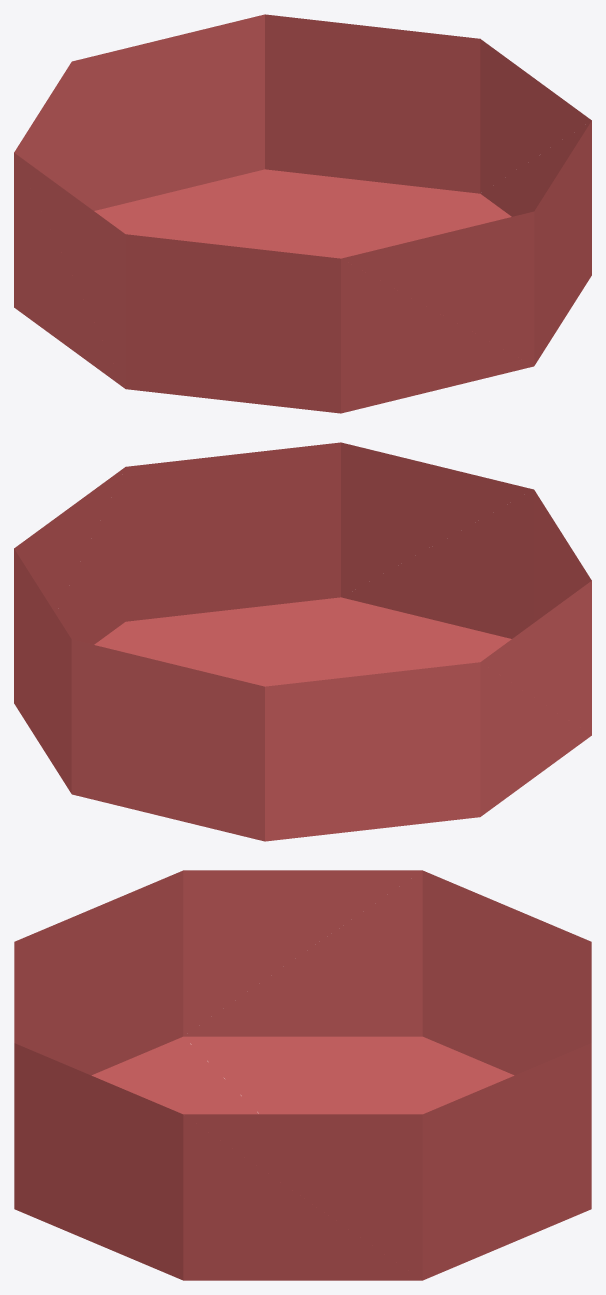
The model's file is ex_wario.glb.
3 views of the same model, one above another, from view 1: azimuth 30°, elevation 25°; view 2: azimuth 150°, elevation 25°; view 3: azimuth 270°, elevation 25° (orthographic). The views are drawn at different scales.
Parts seen in each view (by area): view 1: ex_wario_col; view 2: ex_wario_col; view 3: ex_wario_col.
Part boxes in pixels (box(x1,y1,x2,y2)): ex_wario_col: box(14, 14, 591, 413); ex_wario_col: box(14, 442, 591, 841); ex_wario_col: box(14, 870, 591, 1280).
Bounding box in the file's own units: 15.76 × 5 × 15.76.
